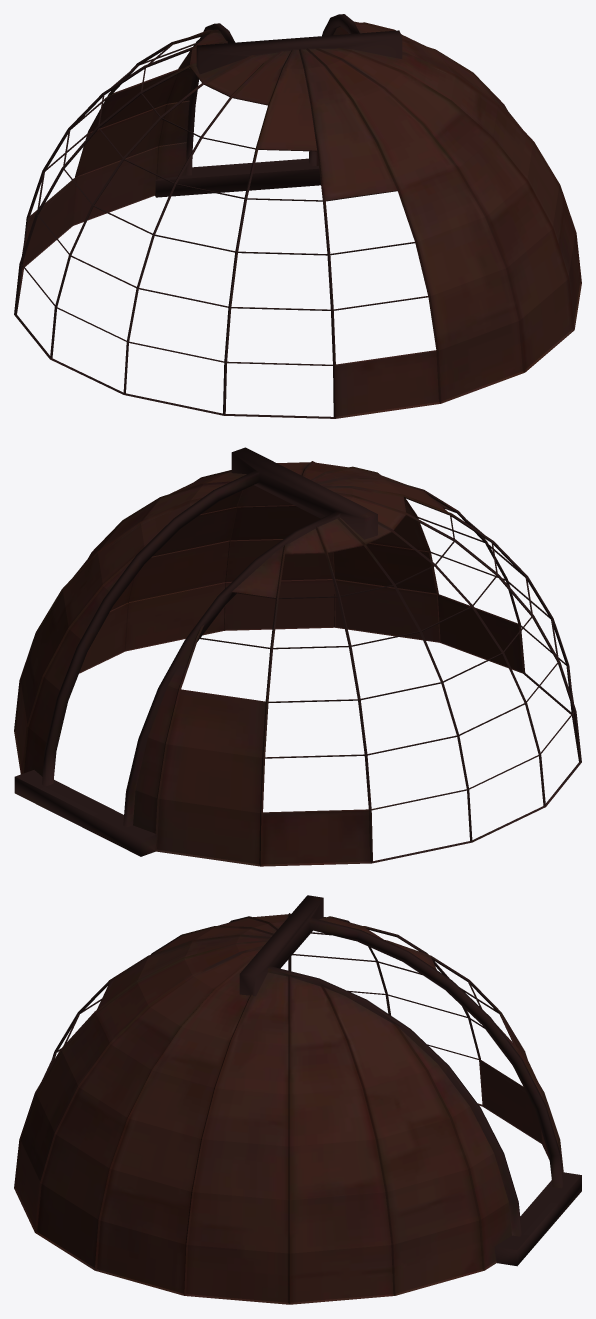
3 renders of one model, top to bottom at view 1: azimuth 30°, elevation 25°; view 2: azimuth 150°, elevation 25°; view 3: azimuth 270°, elevation 25°, orthographic. The views are drawn at different scales.
Visible parts, largest first — view 1: body0_model0_lod0_mesh0; view 2: body0_model0_lod0_mesh0; view 3: body0_model0_lod0_mesh0.
Part boxes in pixels (x1,y1,x2,y2): body0_model0_lod0_mesh0: [14, 14, 581, 418]; body0_model0_lod0_mesh0: [14, 447, 581, 866]; body0_model0_lod0_mesh0: [14, 895, 581, 1304].
Bounding box in the file's own units: 96 × 48.35 × 98.87.
1 material, 1 textured.
